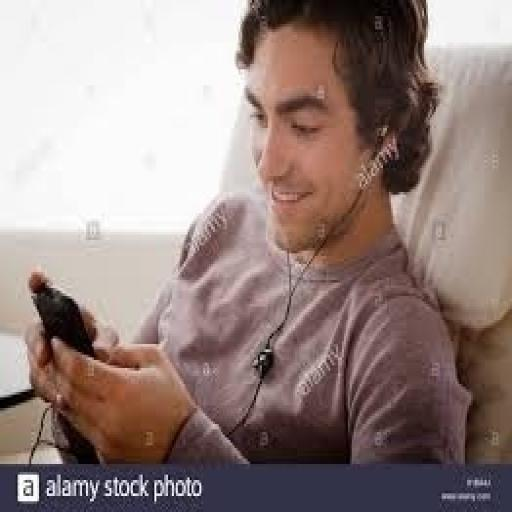listening_to_music: (23, 0, 472, 469)
